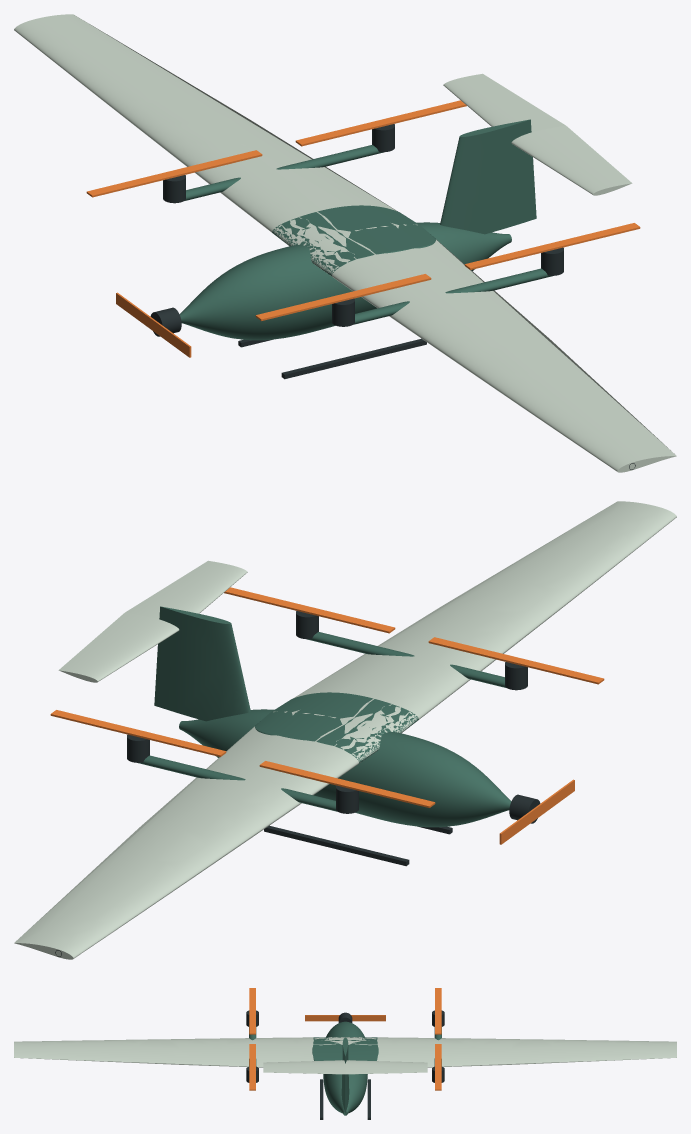
The model's file is surface_tools-02-model.glb.
The picture shows the model from 3 angles, top to bottom: view 1: azimuth 30°, elevation 25°; view 2: azimuth 150°, elevation 25°; view 3: azimuth 270°, elevation 25°; orthographic projection. The views are drawn at different scales.
Parts seen in each view (by area): view 1: wing-1, wing1, fuselage, fin, tail-1, tail1, root_fairing-1, root_fairing1, boom_fairing-1, boom_fairing1, prop_1_200.0, prop_-1_200.0 (+4 smaller); view 2: wing1, wing-1, fuselage, fin, tail1, tail-1, root_fairing1, root_fairing-1, boom_fairing1, boom_fairing-1, prop_-1_200.0, prop_1_200.0 (+4 smaller); view 3: wing-1, wing1, fuselage, tail-1, tail1, root_fairing-1, root_fairing1, cruise_prop, fin, prop_-1_200.0, prop_-1_700.0, prop_1_200.0 (+1 smaller).
Part boxes in pixels (<box>): wing-1: <box>309,225,676,472</box>; wing1: <box>14,14,417,246</box>; fuselage: <box>179,222,511,340</box>; fin: <box>440,119,536,234</box>; tail-1: <box>511,125,632,195</box>; tail1: <box>443,73,565,131</box>; root_fairing-1: <box>308,225,435,276</box>; root_fairing1: <box>272,205,419,246</box>; boom_fairing-1: <box>353,268,552,324</box>; boom_fairing1: <box>184,145,383,200</box>; prop_1_200.0: <box>86,150,262,197</box>; prop_-1_200.0: <box>255,274,431,320</box>; wing1: <box>14,712,381,959</box>; wing-1: <box>273,501,676,733</box>; fuselage: <box>179,709,511,827</box>; fin: <box>154,606,250,721</box>; tail1: <box>58,612,179,682</box>; tail-1: <box>125,560,247,618</box>; root_fairing1: <box>255,712,382,763</box>; root_fairing-1: <box>271,692,418,733</box>; boom_fairing1: <box>138,755,337,811</box>; boom_fairing-1: <box>307,632,506,687</box>; prop_-1_200.0: <box>428,637,604,684</box>; prop_1_200.0: <box>259,761,435,807</box>; wing-1: <box>14,1037,345,1067</box>; wing1: <box>346,1037,676,1067</box>; fuselage: <box>323,1021,367,1115</box>; tail-1: <box>263,1060,345,1074</box>; tail1: <box>345,1060,427,1074</box>; root_fairing-1: <box>312,1037,345,1060</box>; root_fairing1: <box>346,1037,378,1060</box>; cruise_prop: <box>305,1015,385,1021</box>; fin: <box>341,1037,349,1113</box>; prop_-1_200.0: <box>249,988,255,1034</box>; prop_-1_700.0: <box>249,1044,255,1090</box>; prop_1_200.0: <box>435,988,441,1034</box>.
Size of the model in its own units: 989 by 405 by 2500.
